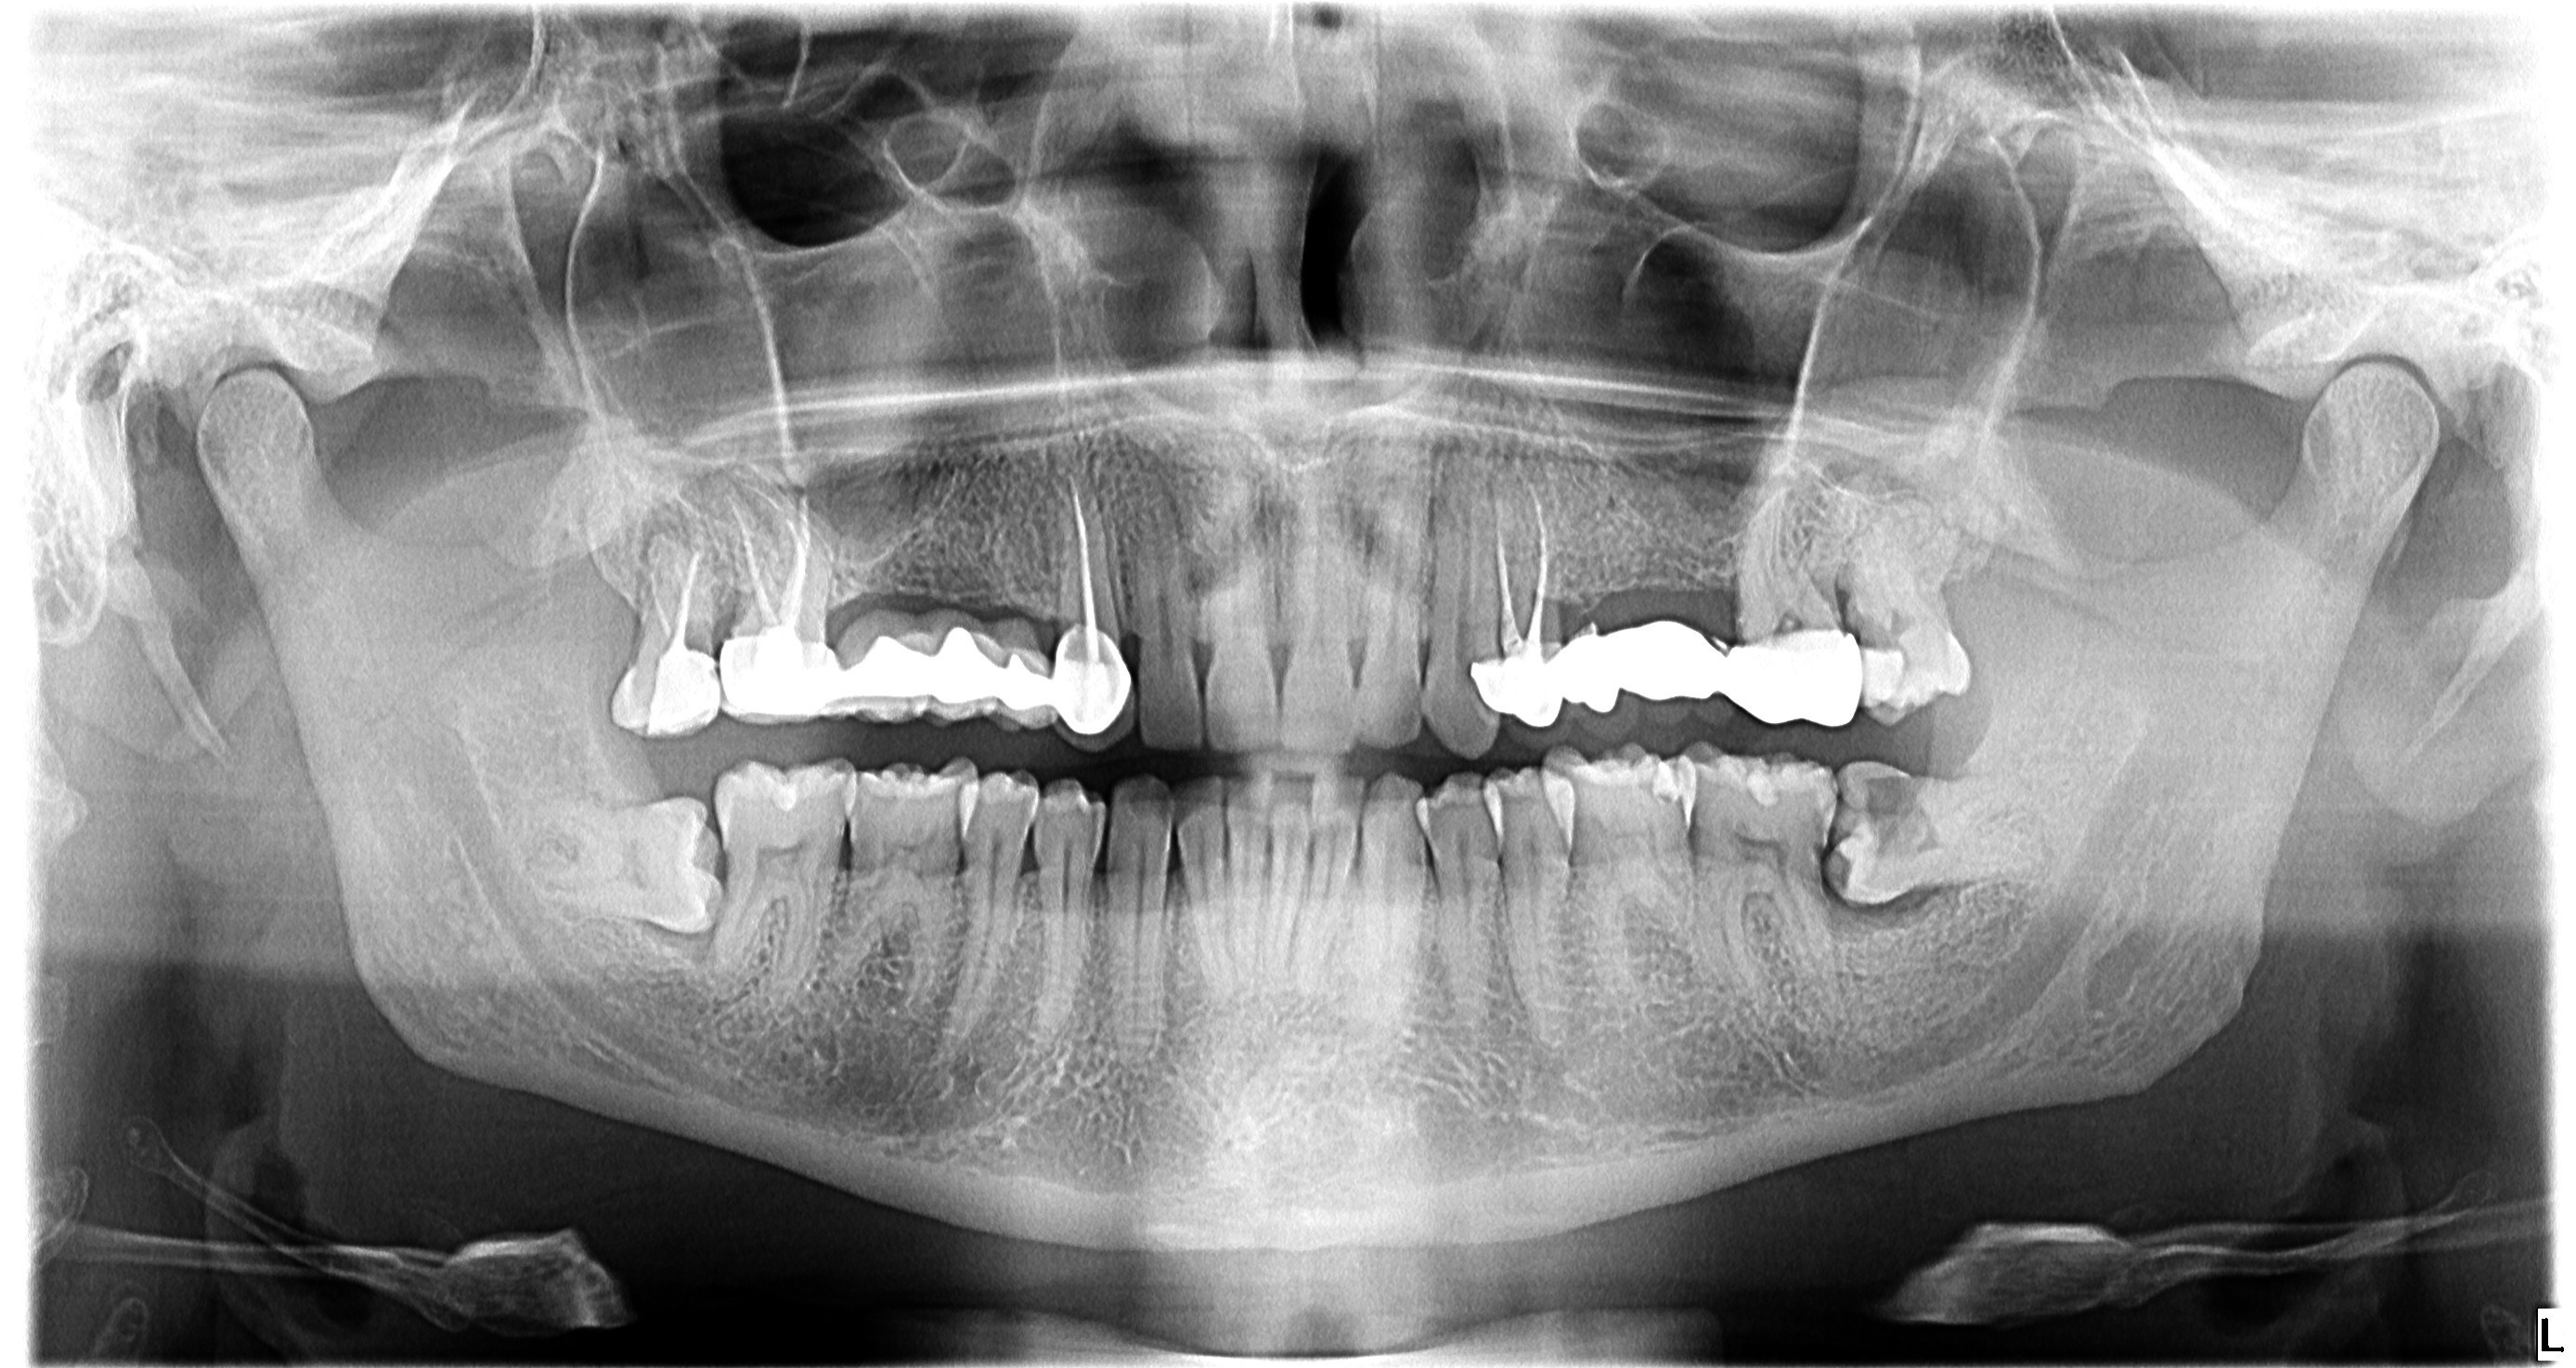CAR: (1850, 760, 1947, 862)
END: (1474, 477, 1562, 658), (727, 474, 819, 635), (1055, 468, 1111, 641), (634, 535, 714, 654)
IMT: (1813, 756, 2043, 911), (515, 792, 738, 947)
OBT: (641, 649, 724, 744), (1855, 618, 1920, 734), (1630, 750, 1704, 843)
PRR: (717, 596, 1140, 746), (1465, 613, 1859, 727)
